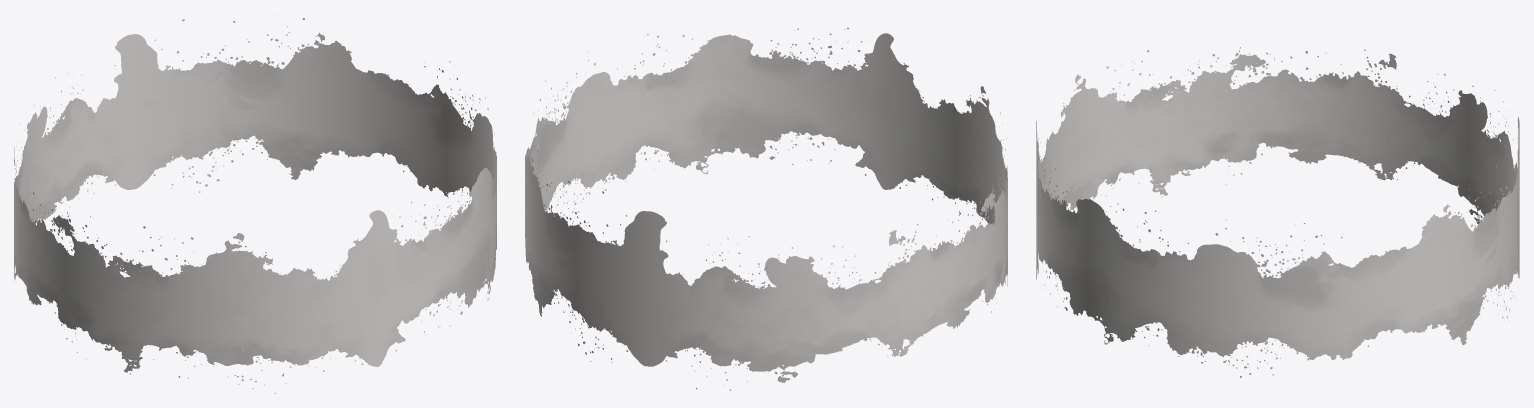
The model's file is smokeA.fbx.
The picture shows the model from 3 angles, left to right: view 1: azimuth 30°, elevation 25°; view 2: azimuth 150°, elevation 25°; view 3: azimuth 270°, elevation 25°; orthographic projection.
Visible parts, largest first — view 1: smokeA; view 2: smokeA; view 3: smokeA.
Part boxes in pixels (x1,y1,x2,y2): smokeA: (14,15,496,393); smokeA: (525,28,1007,390); smokeA: (1036,47,1519,377).
Bounding box in the file's own units: 19.99 × 8.02 × 19.99.
1 material, 1 textured.
